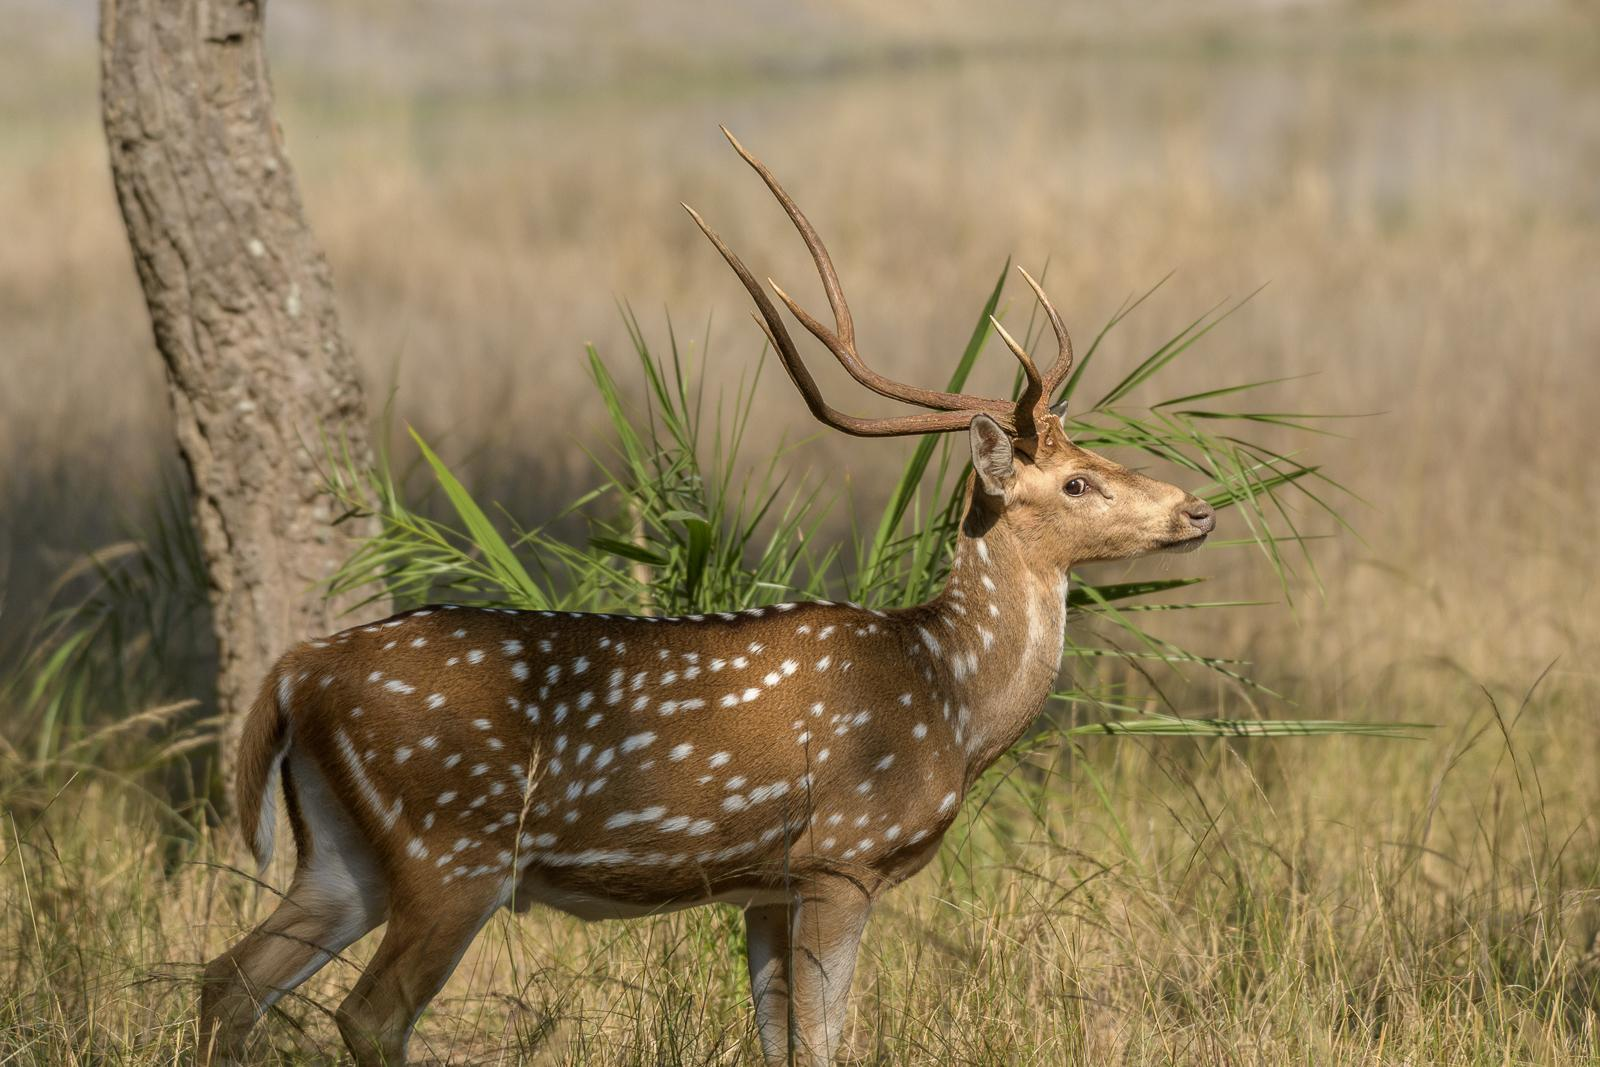Deer: (202, 138, 1213, 1063)
